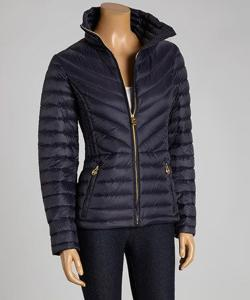C_jacket: (35, 1, 204, 258)
F_W_pants: (73, 217, 181, 300)
